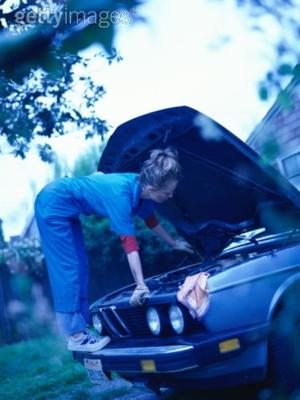person: (34, 151, 196, 356)
